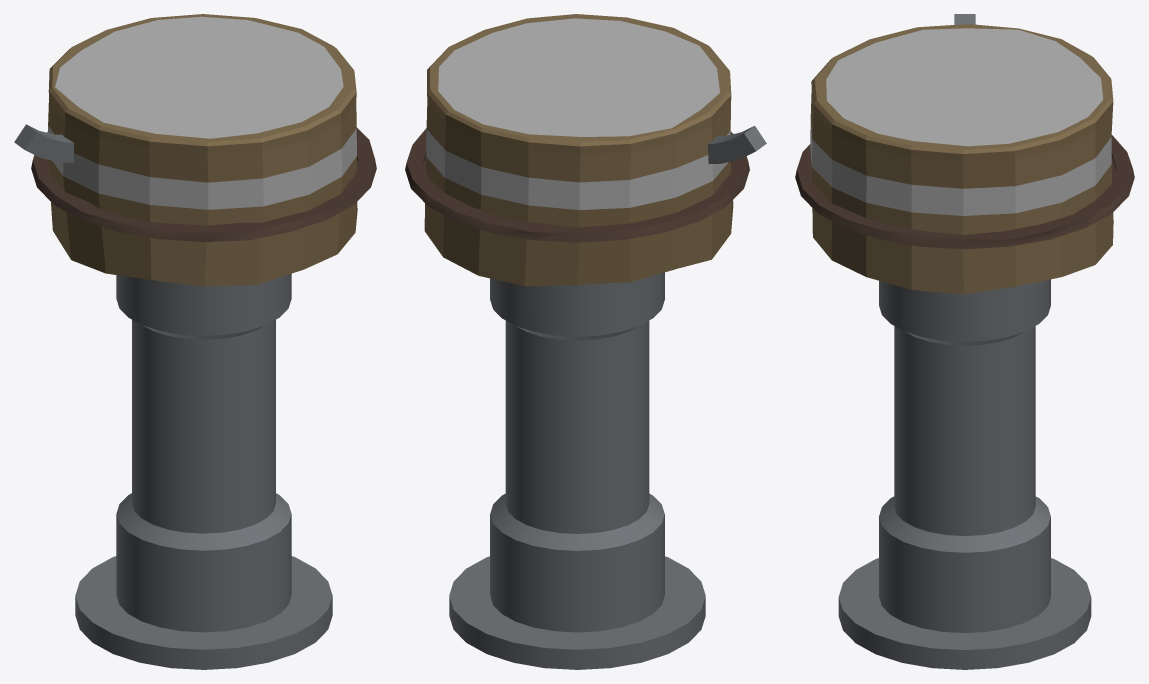
File: LightRockMechLargePiston1.fbx
The picture shows the model from 3 angles, left to right: view 1: azimuth 30°, elevation 25°; view 2: azimuth 150°, elevation 25°; view 3: azimuth 270°, elevation 25°; orthographic projection.
Visible parts, largest first — view 1: PistonHead, PistonTopsNTails, PistonHeight, FloorMarker, Piston_Hook; view 2: PistonHead, PistonTopsNTails, PistonHeight, FloorMarker, Piston_Hook; view 3: PistonHead, PistonTopsNTails, PistonHeight, FloorMarker.
Part boxes in pixels (x1,y1,x2,y2): PistonHead: (48,14,357,286); PistonTopsNTails: (75,273,332,669); PistonHeight: (132,320,275,533); FloorMarker: (31,127,376,241); Piston_Hook: (14,124,74,162); PistonHead: (424,14,733,286); PistonTopsNTails: (449,272,705,669); PistonHeight: (505,321,649,533); FloorMarker: (405,128,749,242); Piston_Hook: (707,126,766,164); PistonHead: (810,24,1113,294); PistonTopsNTails: (838,279,1091,669); PistonHeight: (894,326,1035,535); FloorMarker: (795,135,1134,249).
Size of the model in its own units: 299 by 461 by 268.
